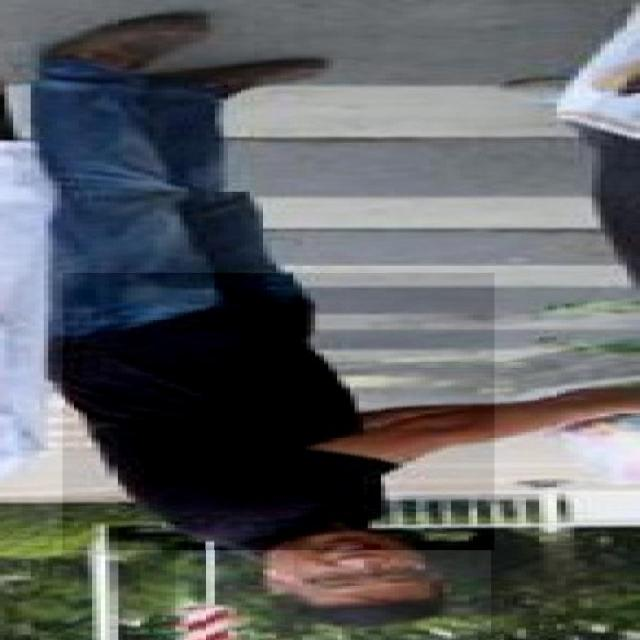Helmet: (63, 273, 495, 550), (175, 515, 490, 640)
